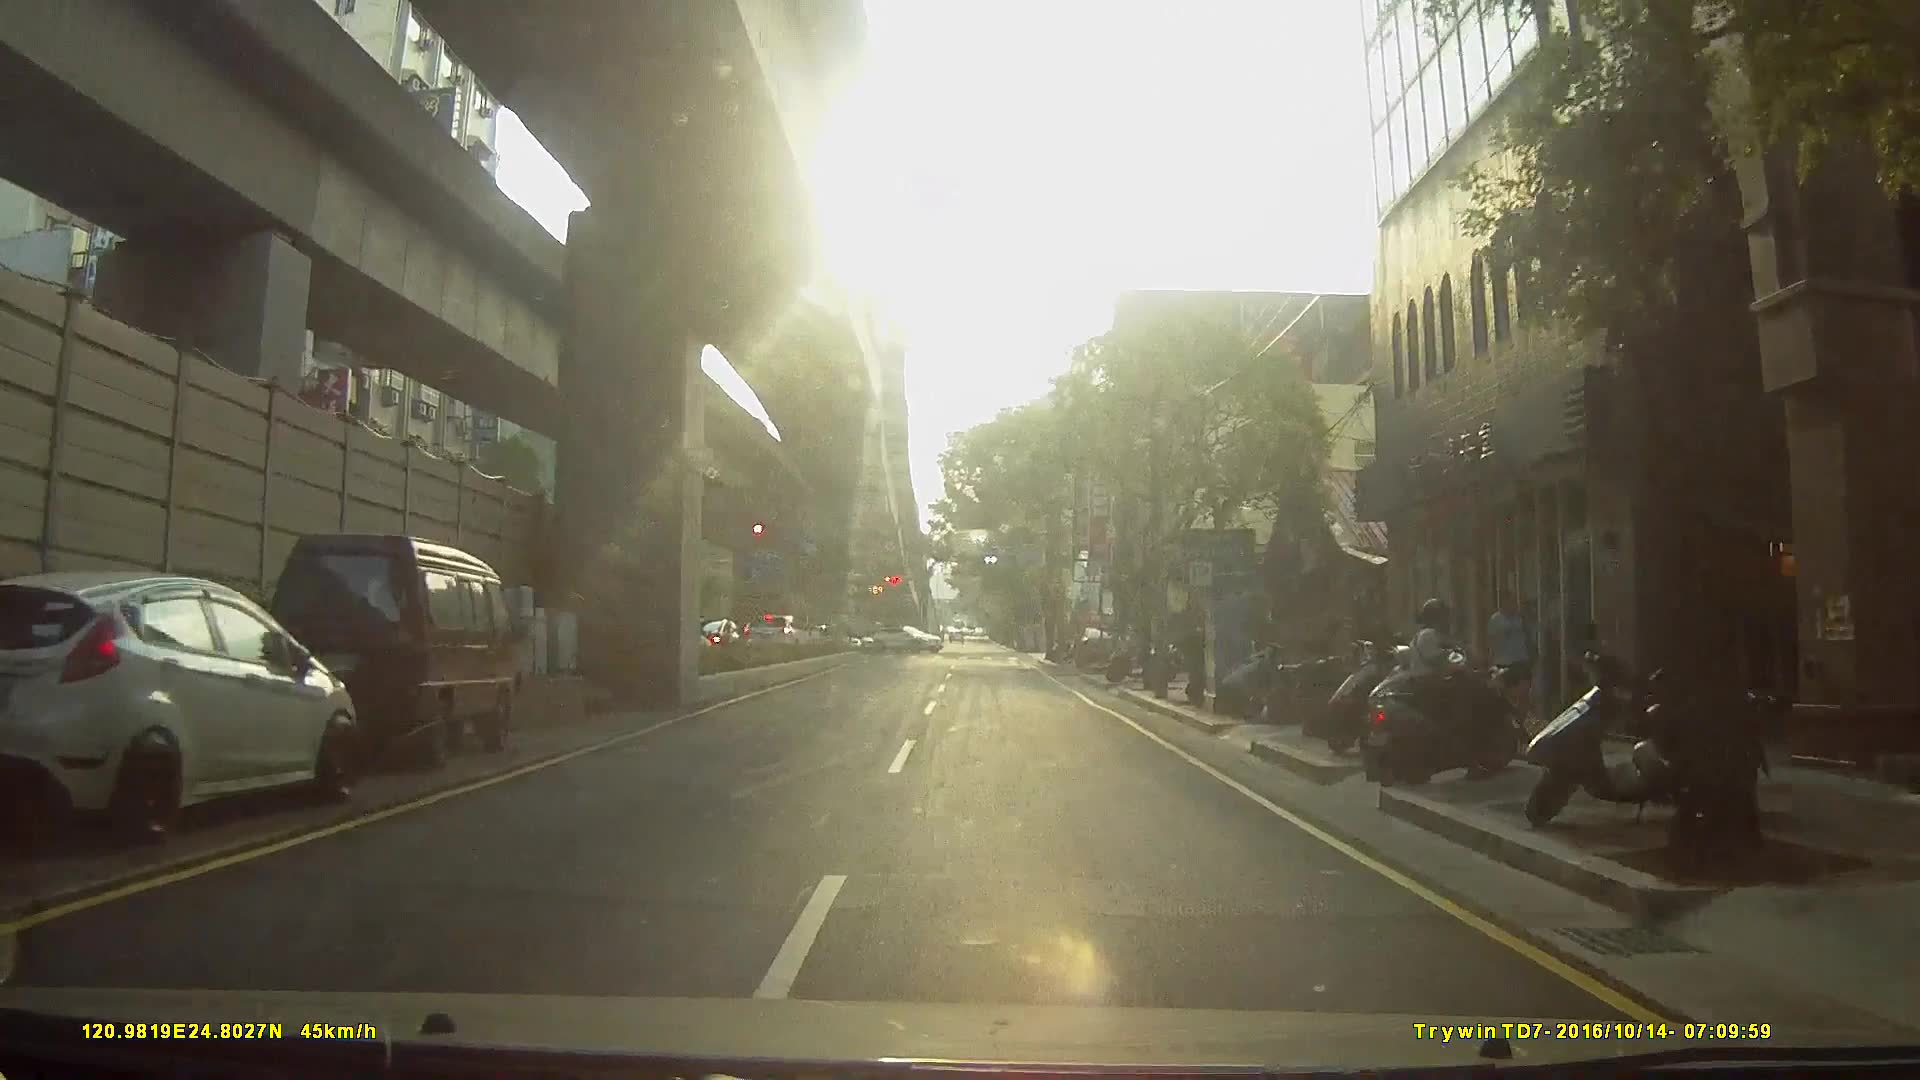pedestrian: (1483, 592, 1540, 729)
rider: (1363, 602, 1535, 803)
vehicle: (1, 563, 392, 845), (240, 524, 539, 777), (739, 612, 817, 658), (1069, 623, 1120, 670), (868, 624, 945, 654)
